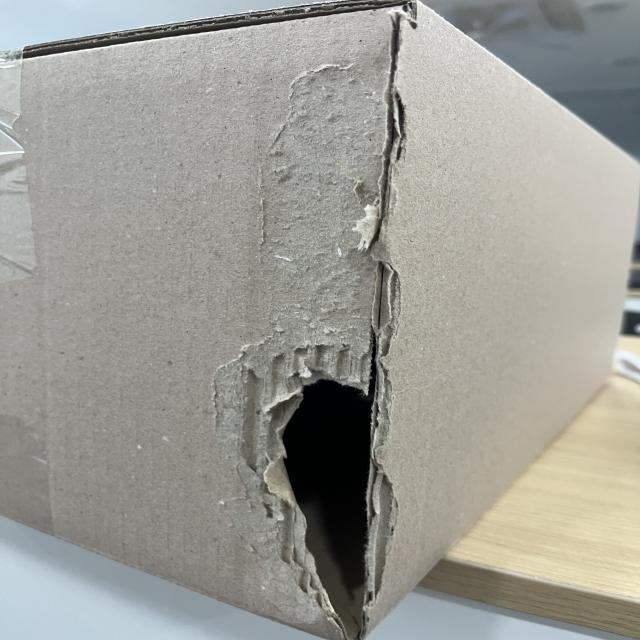hole: (244, 368, 384, 626)
